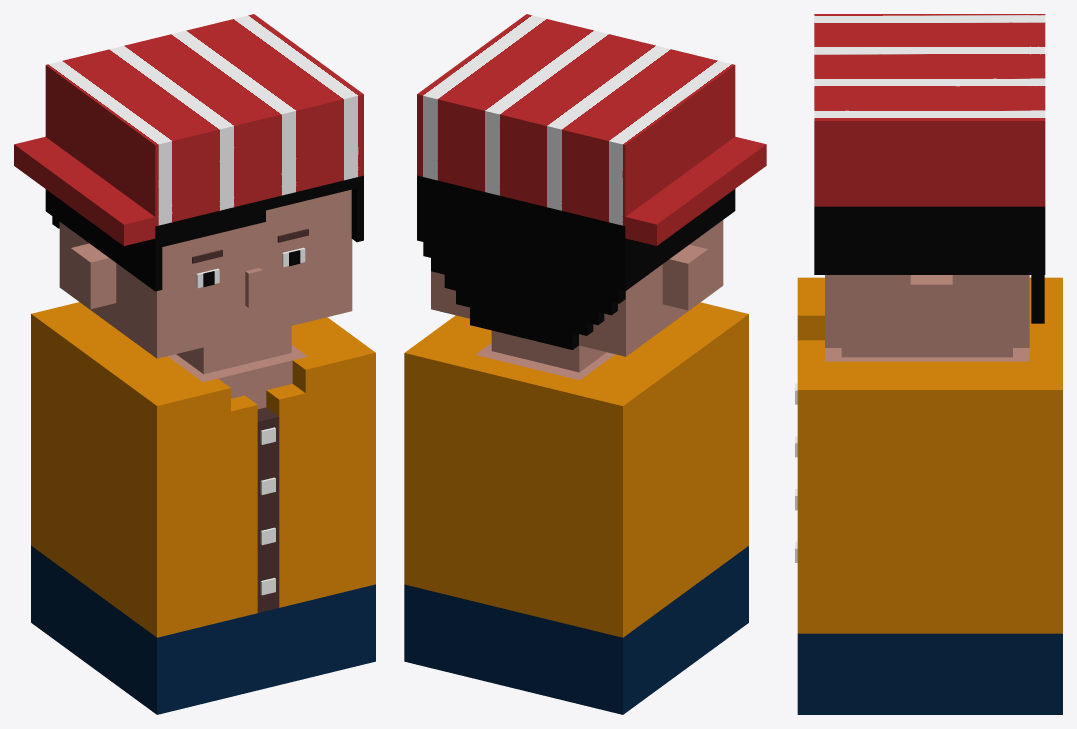
3 renders of one model, left to right at view 1: azimuth 30°, elevation 25°; view 2: azimuth 150°, elevation 25°; view 3: azimuth 270°, elevation 25°, orthographic. The views are drawn at different scales.
Parts seen in each view (by area): view 1: Object, Box040, Box048, Box049, Box058; view 2: Object, Box040, Box041, Box048; view 3: Object, Box040, Box048, Box041.
Boxes of the visible parts, left/top/right/bottom form: Object: left=31, top=189, right=375, bottom=714; Box040: left=14, top=14, right=363, bottom=291; Box048: left=70, top=243, right=116, bottom=309; Box049: left=260, top=427, right=275, bottom=595; Box058: left=245, top=268, right=262, bottom=307; Object: left=404, top=220, right=748, bottom=714; Box040: left=417, top=14, right=766, bottom=291; Box041: left=423, top=242, right=625, bottom=349; Box048: left=662, top=244, right=707, bottom=310; Object: left=797, top=275, right=1062, bottom=714; Box040: left=814, top=14, right=1045, bottom=274; Box048: left=910, top=275, right=952, bottom=333; Box041: left=1031, top=275, right=1044, bottom=323.
Size of the model in its own units: 1.03 by 2.14 by 0.8778.
Materials: 10 (1 with a texture image).
